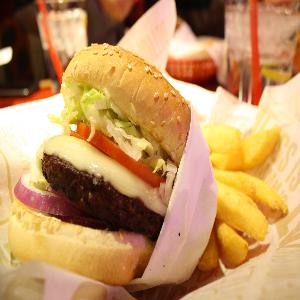cheeseburger_475cal: (26, 36, 187, 295)
fries_350cal: (213, 118, 287, 264)
